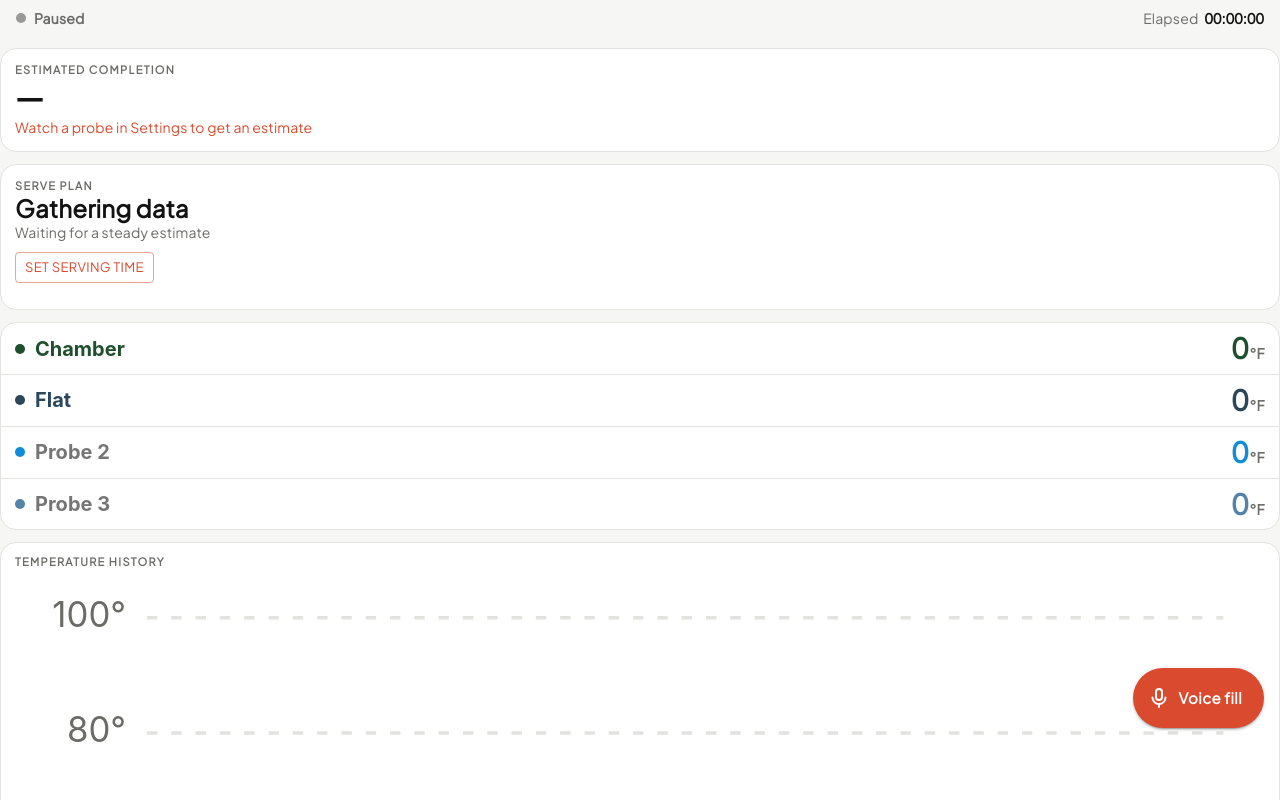
Voice Fill on the smoke screen › a cook that is not running is offered no stamp to log: it goes to Notes
This screenshot has width=1280, height=800.
What coordinates should you click on to do the following:
click the button "Voice fill"
I would click on:
 (1198, 698)
Its box is [1133, 668, 1264, 728].
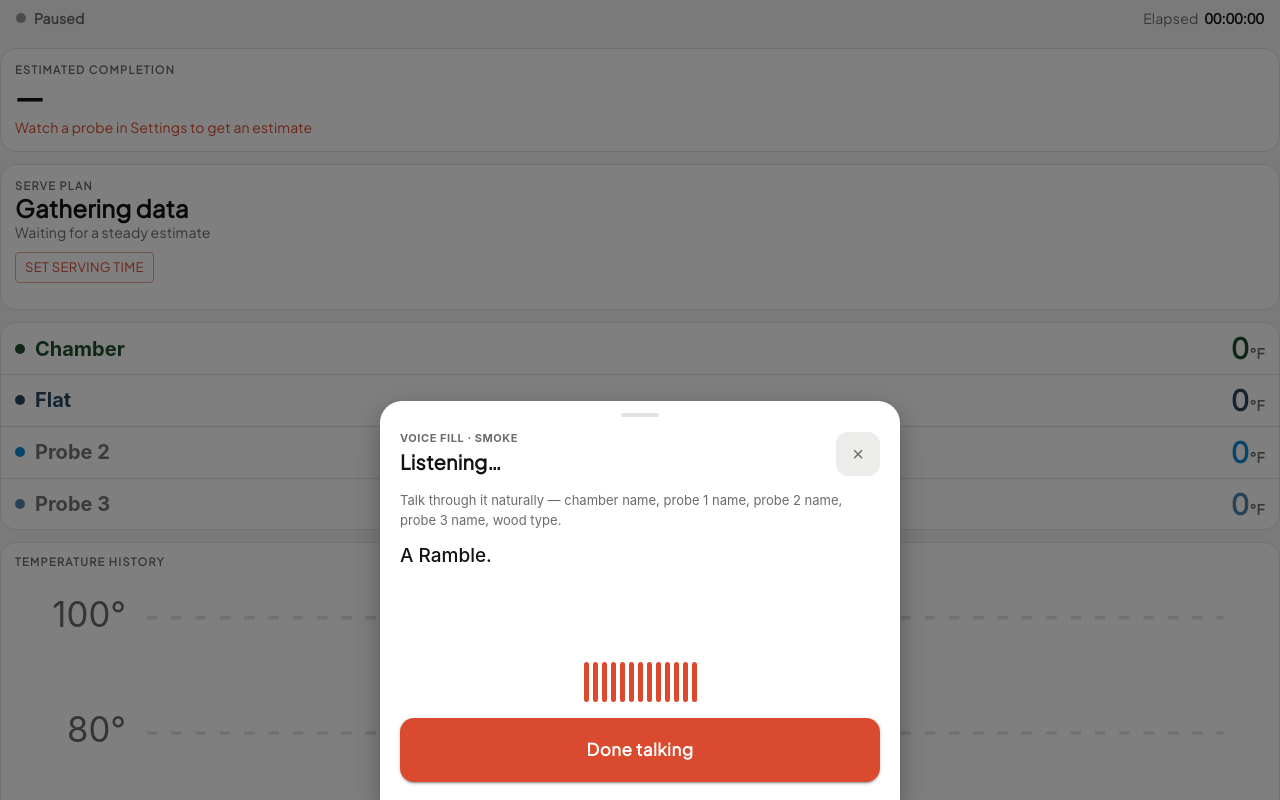
What coordinates should you click on to do the following:
click the button "Done talking"
I would click on:
 (640, 750)
Its box is [400, 718, 880, 782].
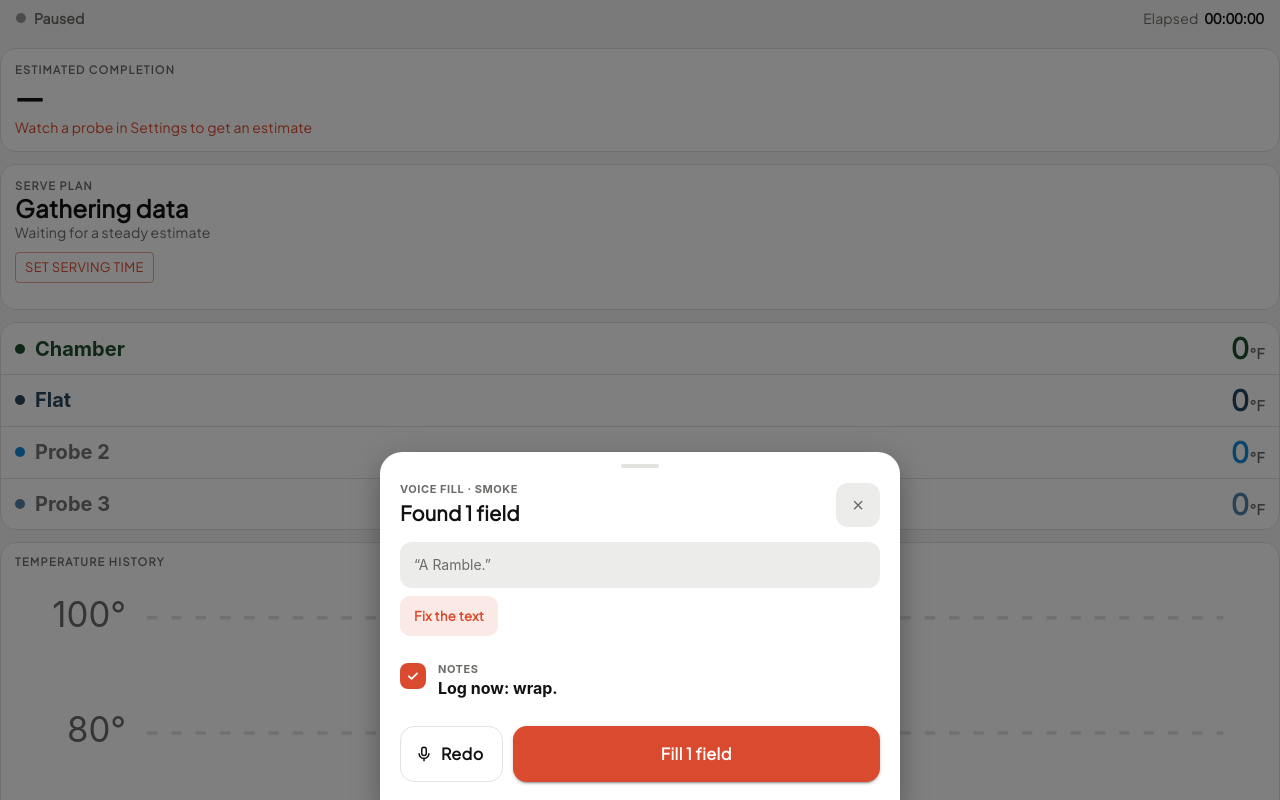
Result: the button "Fill 1 field" is shown at [513, 726, 880, 782]
Result: the checkbox with test id "voice-fill-row-notes" shows "Log now: wrap." at [400, 650, 880, 710]
